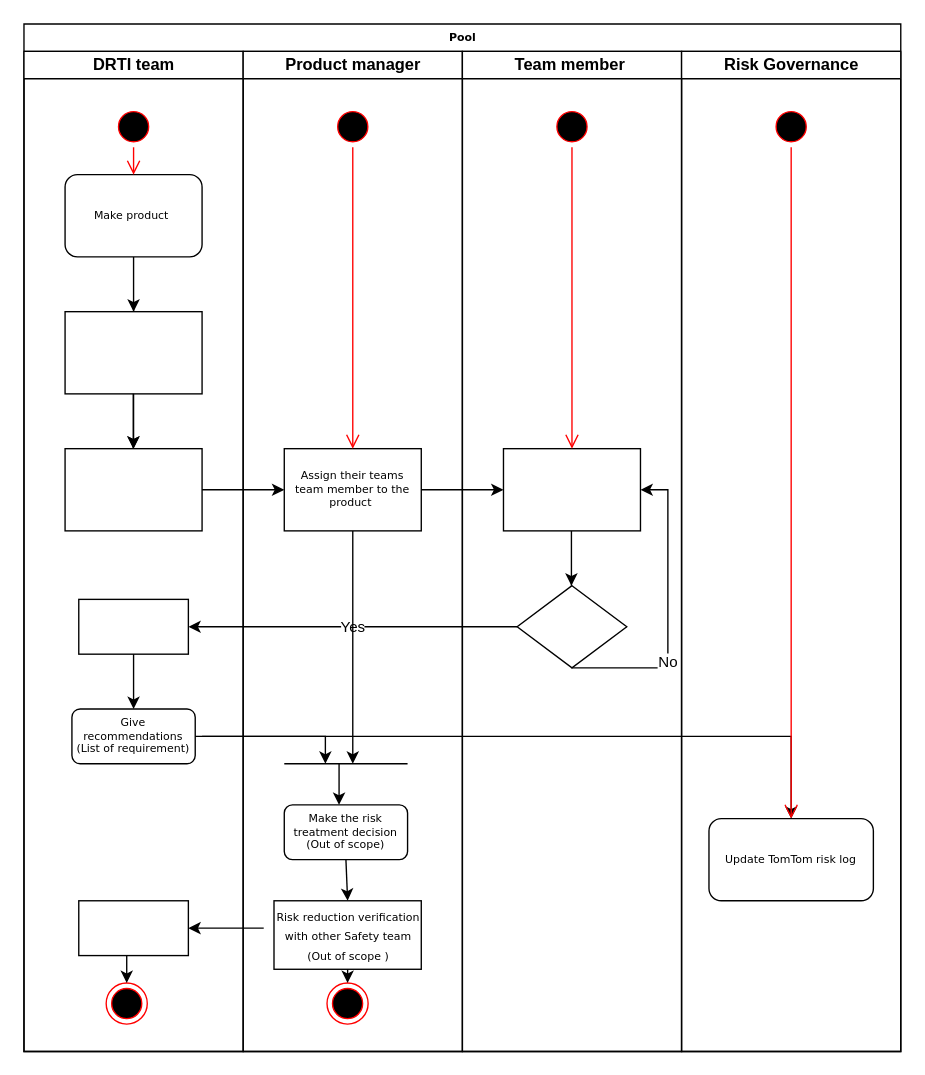
This 925x1075 diagram has some shape labels left out. Each missing label, with the centre of its shape:
Analyze the results: the point at 132,626
Answer the questions: the point at 571,489
Assign product manager: the point at 133,489
Audit: the point at 132,927
Choose a set of questions from predefined set: the point at 133,352
Finished == true: the point at 571,626
